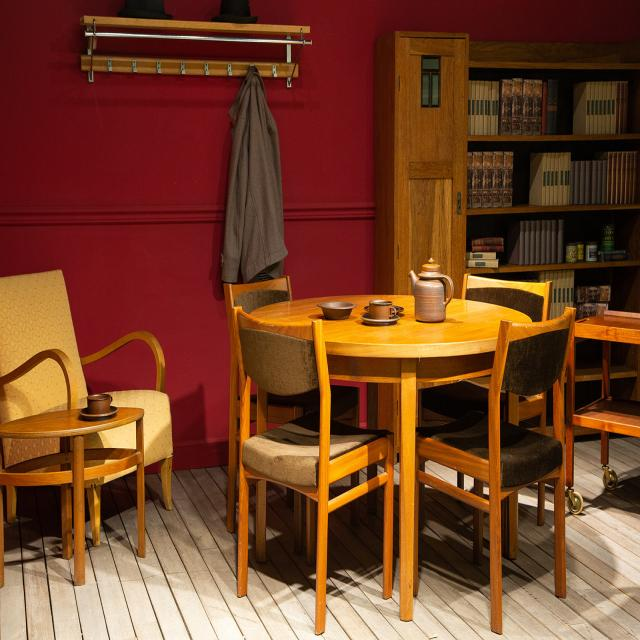vintage chair: (228, 301, 396, 634), (420, 307, 579, 636), (6, 268, 177, 545)
vintage desk: (236, 290, 536, 625), (5, 408, 146, 596)
vintage shelf: (373, 30, 640, 290)
